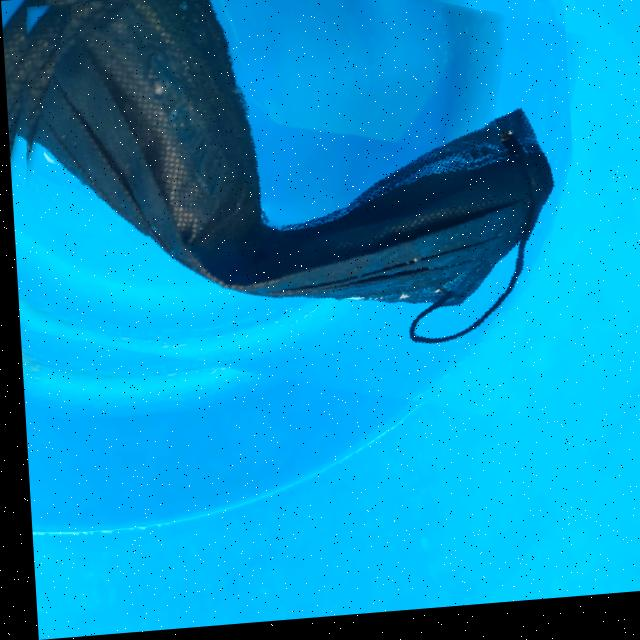mask: (0, 0, 580, 424)
